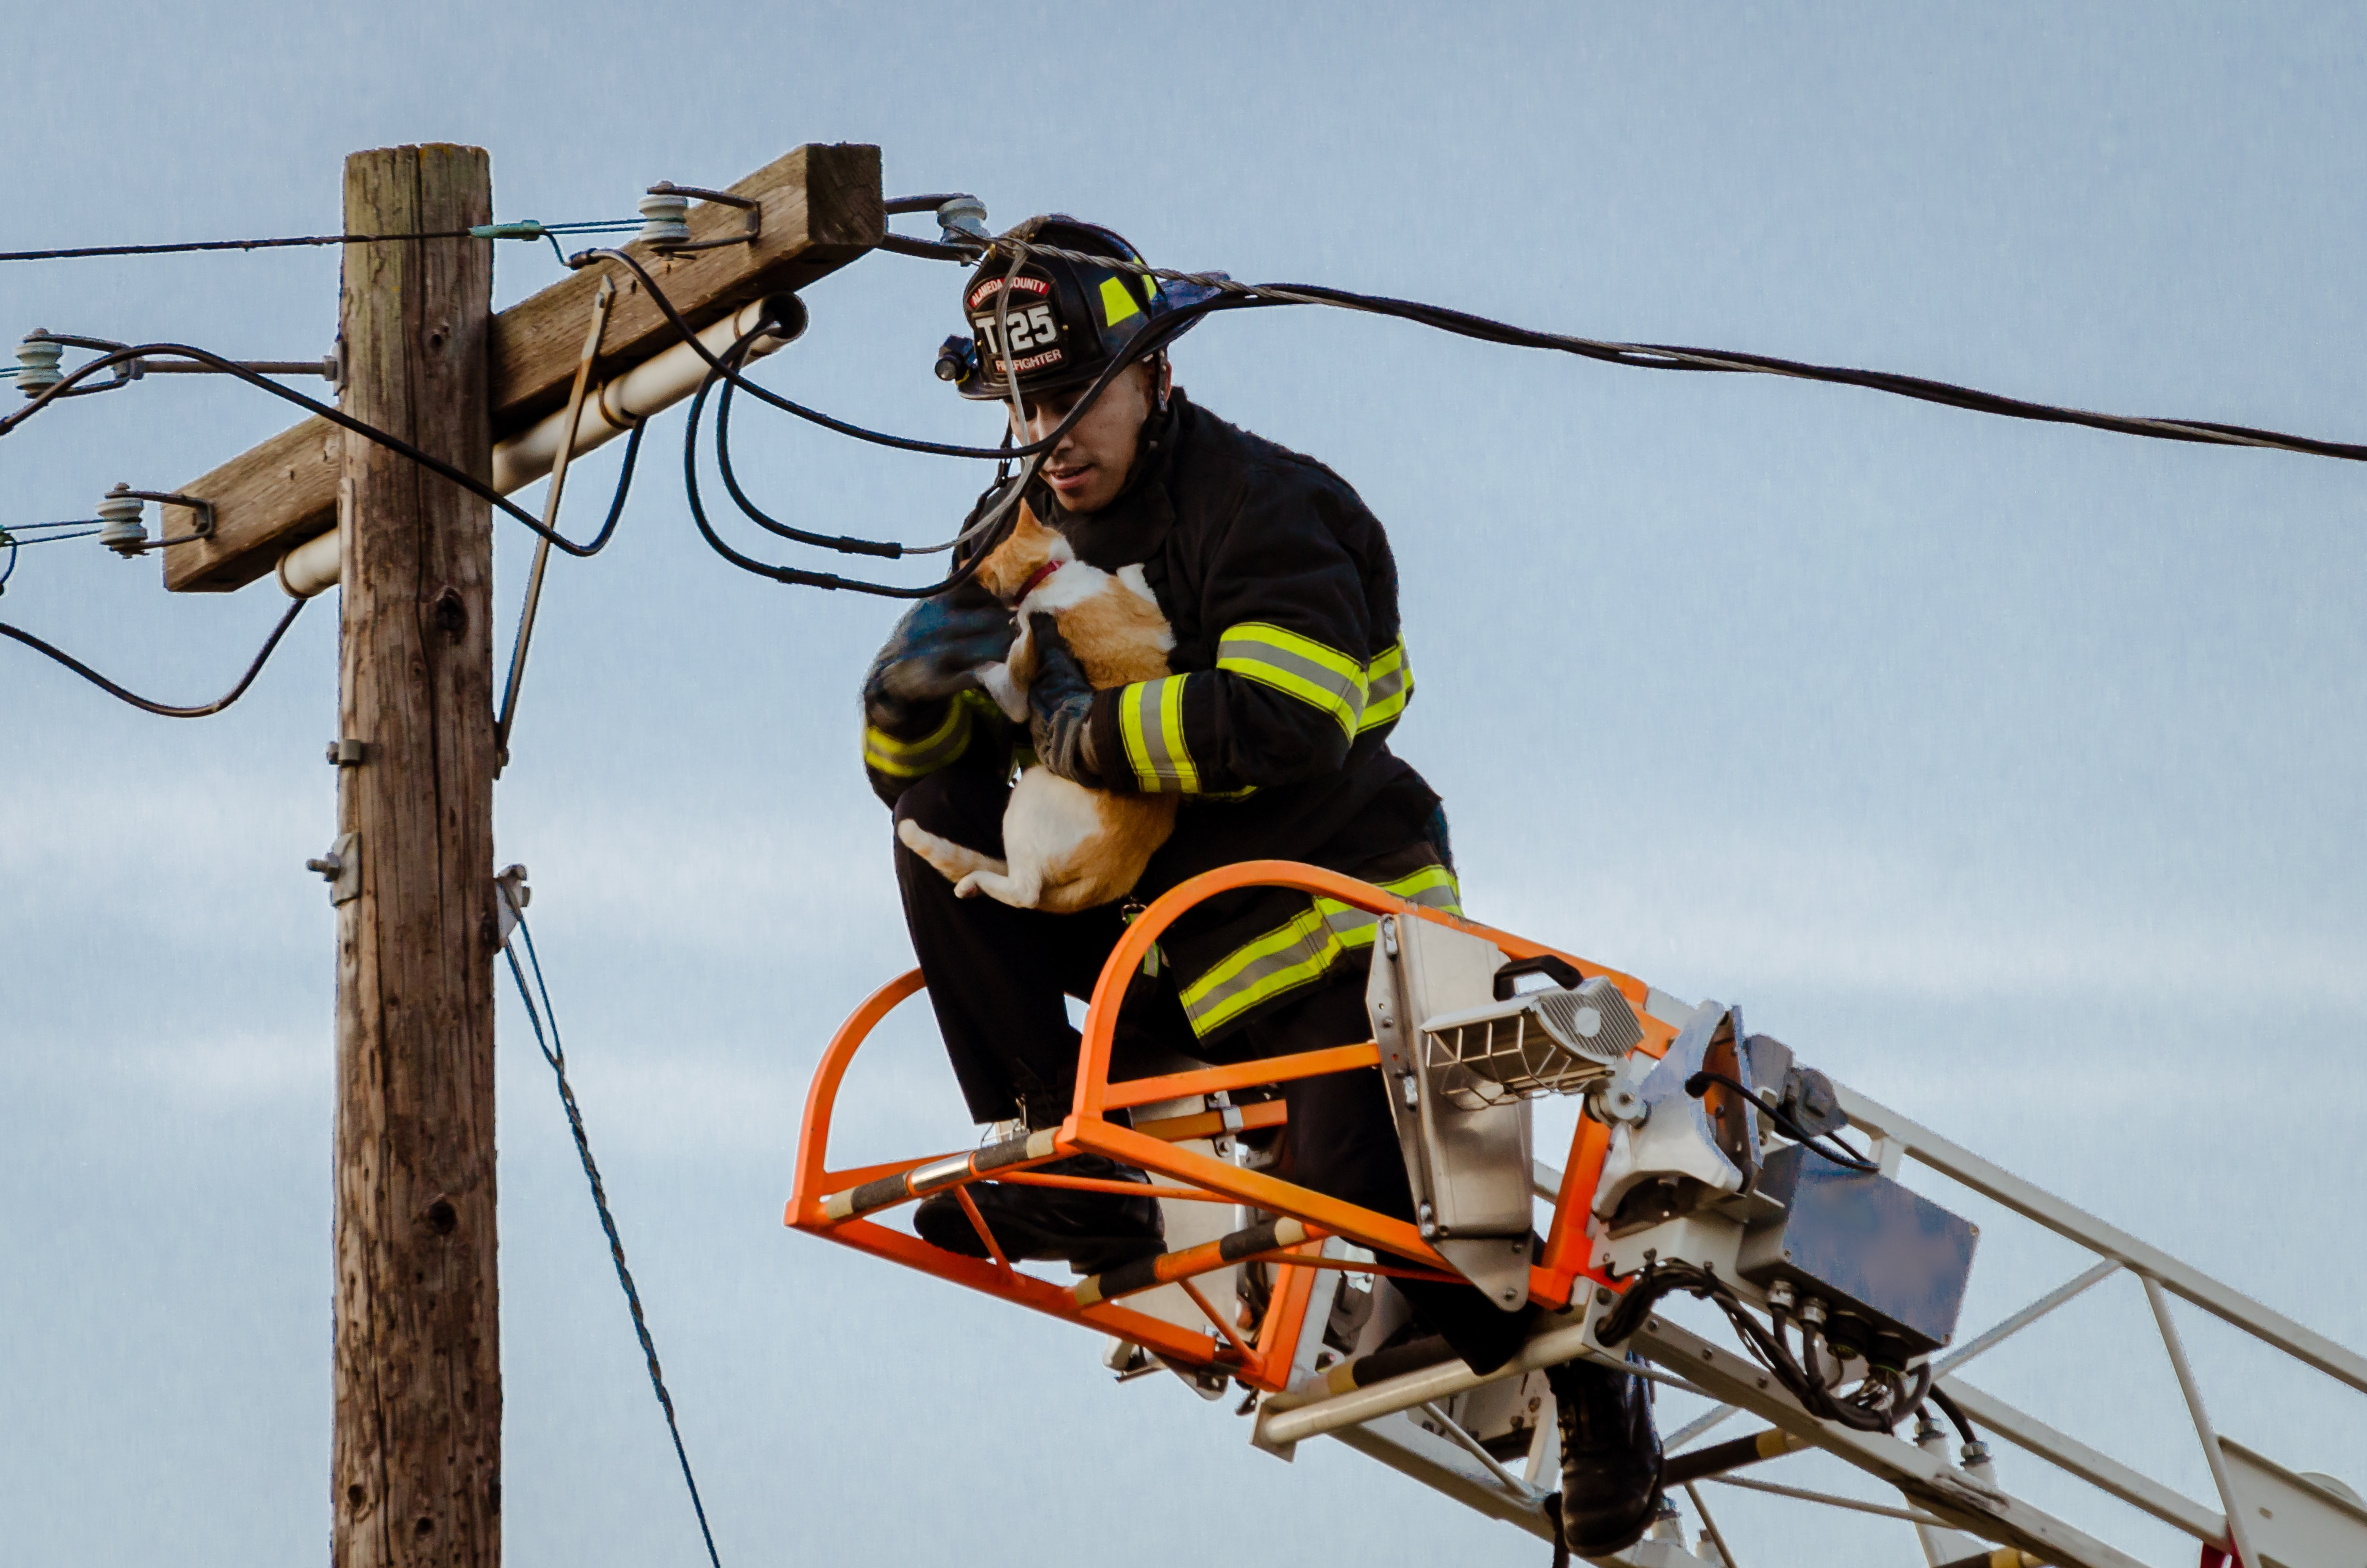emergent: (866, 212, 1463, 1286)
